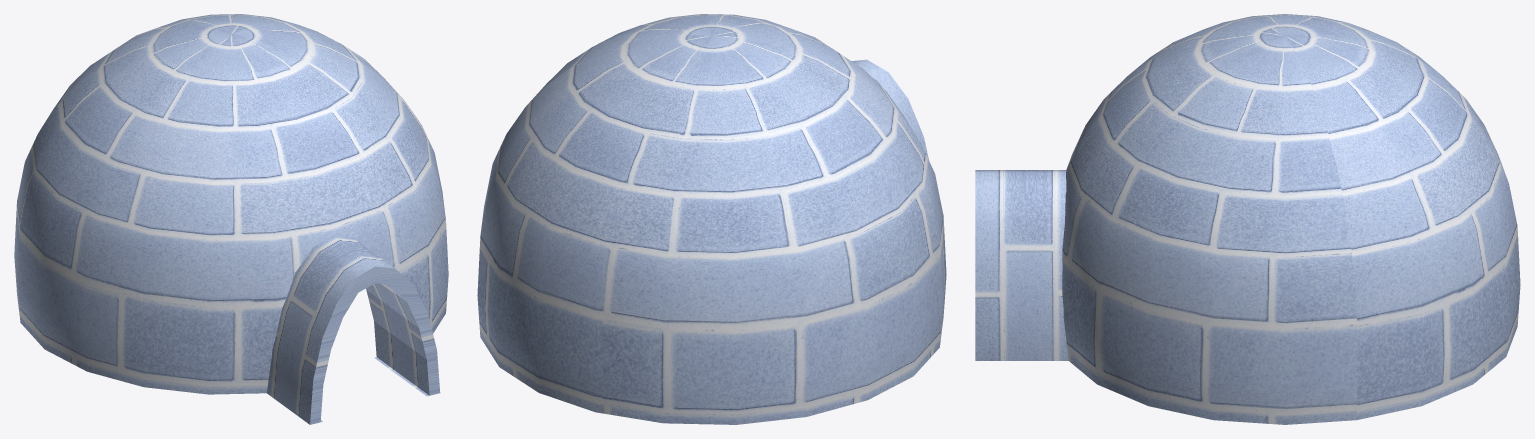
The model's file is kamakura.fbx.
3 views of the same model, side by side, from view 1: azimuth 30°, elevation 25°; view 2: azimuth 150°, elevation 25°; view 3: azimuth 270°, elevation 25° (orthographic). The views are drawn at different scales.
Visible parts, largest first — view 1: kamakura; view 2: kamakura; view 3: kamakura.
Boxes of the visible parts, x1,y1,x2,y2 form: kamakura: (14, 14, 448, 424); kamakura: (477, 14, 946, 424); kamakura: (975, 14, 1520, 424).
Bounding box in the file's own units: 2 × 1.36 × 2.32.
